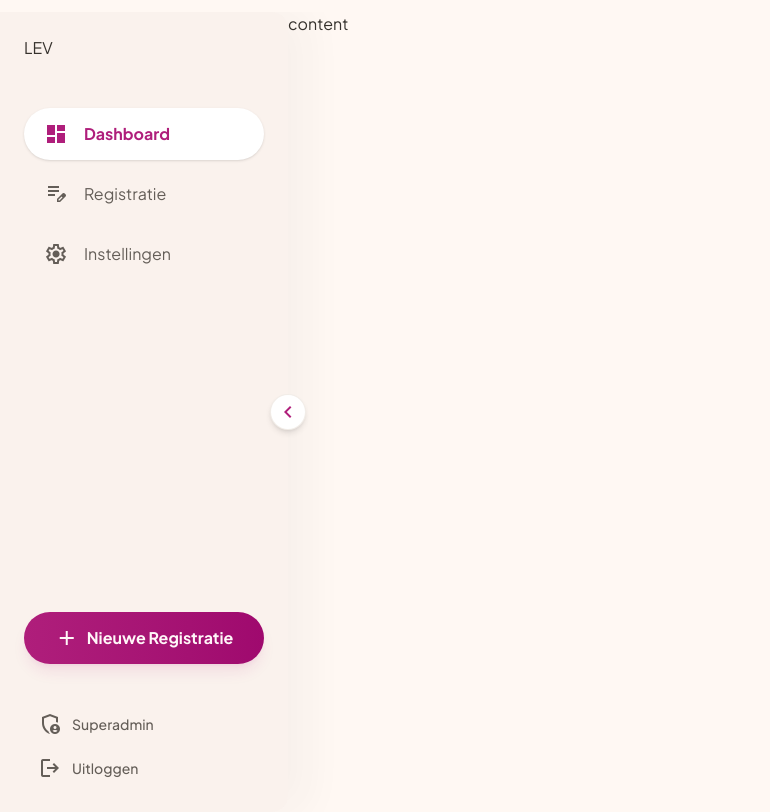
<AppSidebar /> › collapses the desktop sidebar and keeps the CTA accessible
What coordinates should you click on to do the following:
click the button named "sidebar inklappen"
I would click on:
 (288, 412)
Its box is [270,394,306,430].
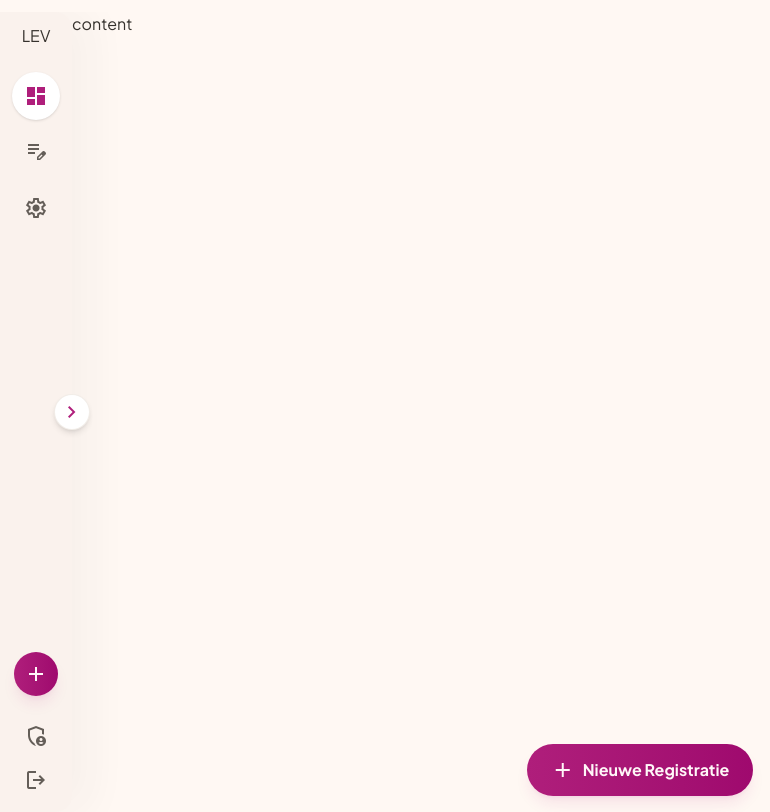
Expected: the link named "nieuwe registratie" is shown, [14,652,58,696]
Result: the navigation bar named "hoofdnavigatie" is collapsed at [0,12,72,811]
Result: the button named "sidebar uitklappen" is shown at [54,394,90,430]
